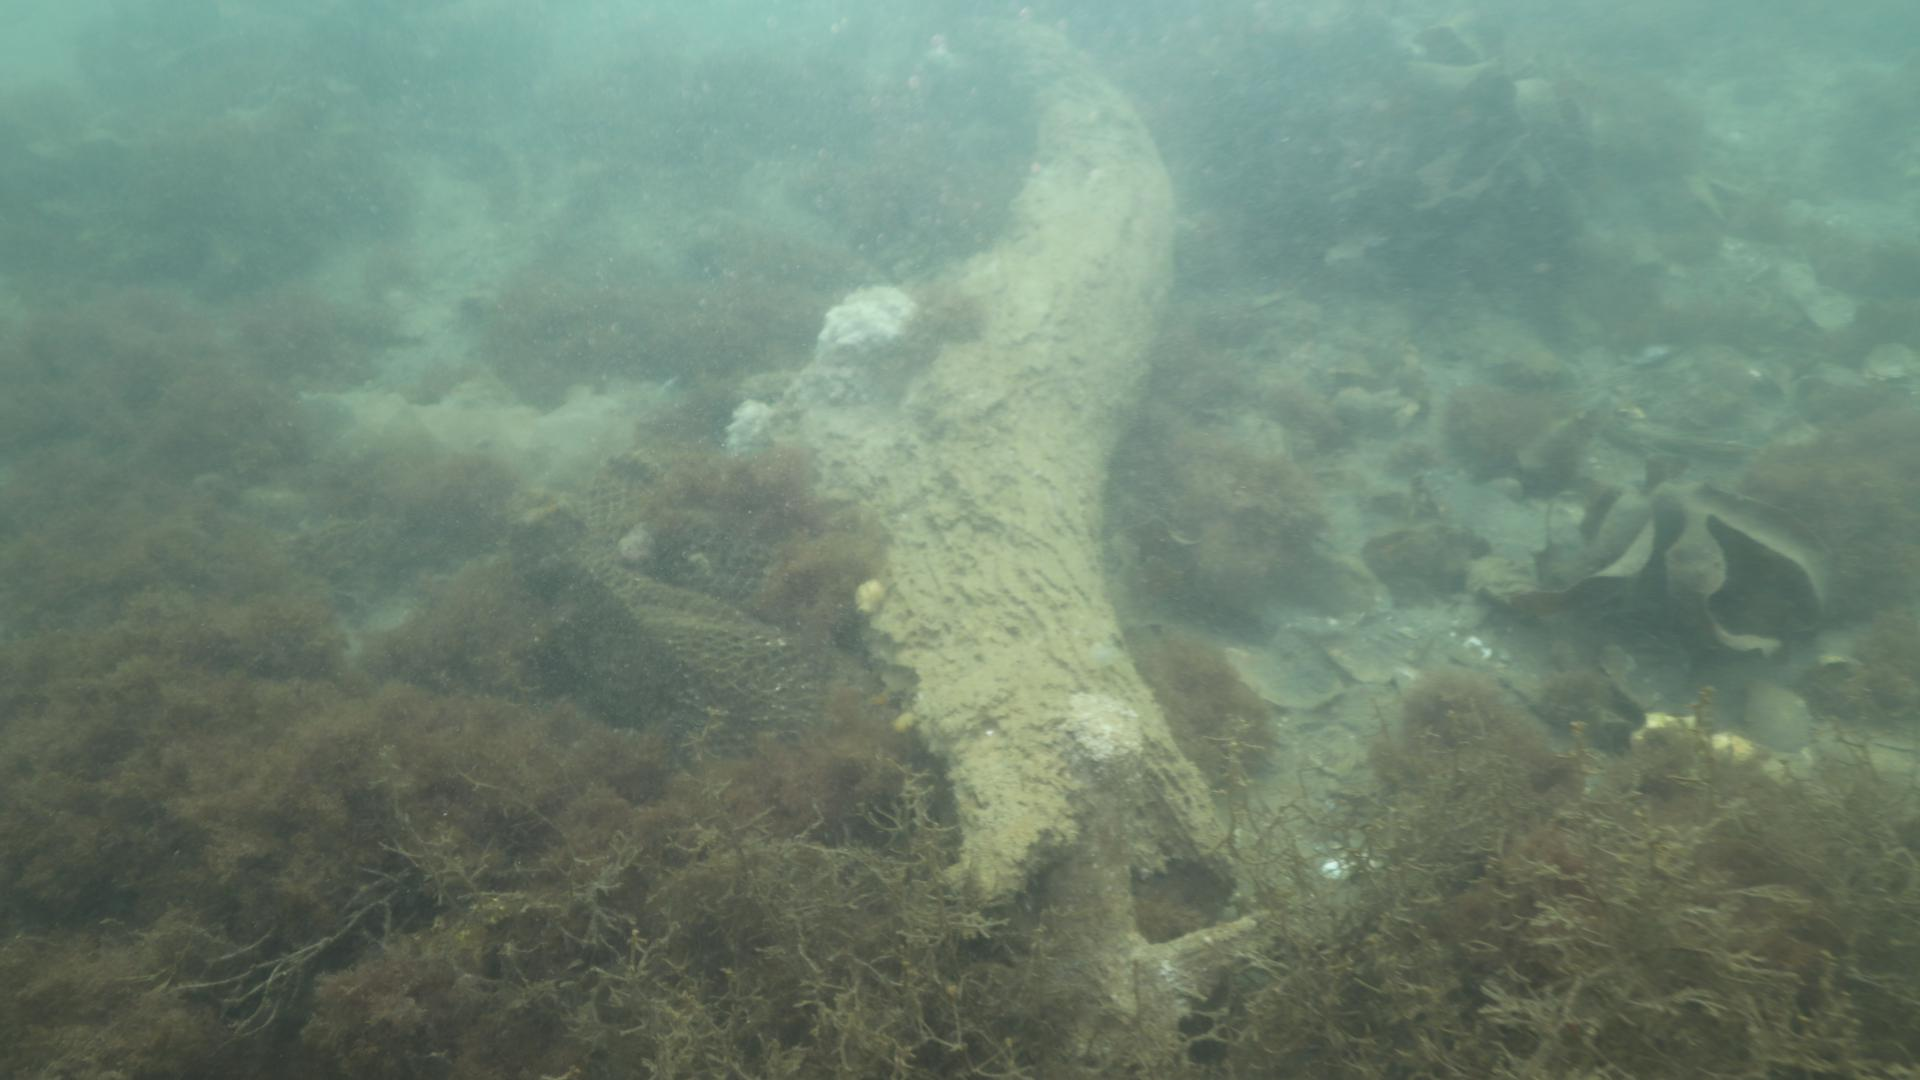fish net: (582, 444, 800, 698)
wood: (732, 18, 1269, 1004)
